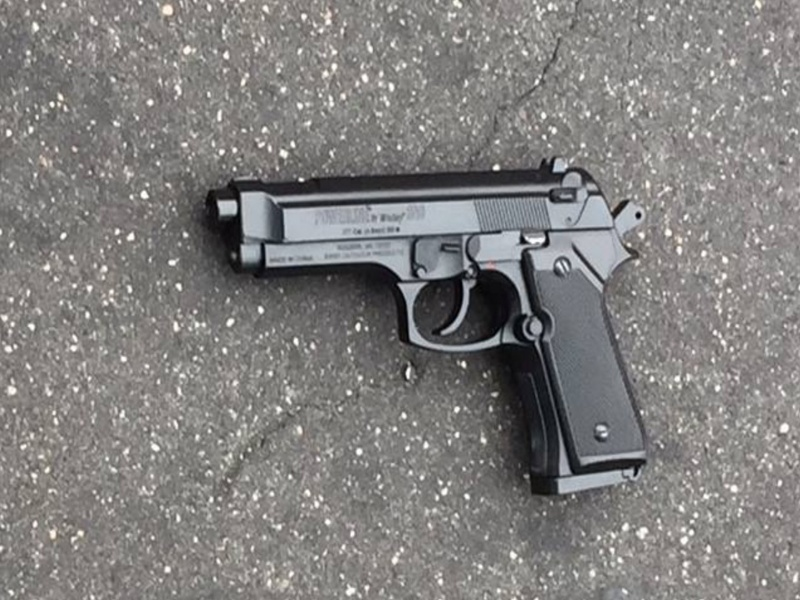gun: (203, 174, 664, 501)
